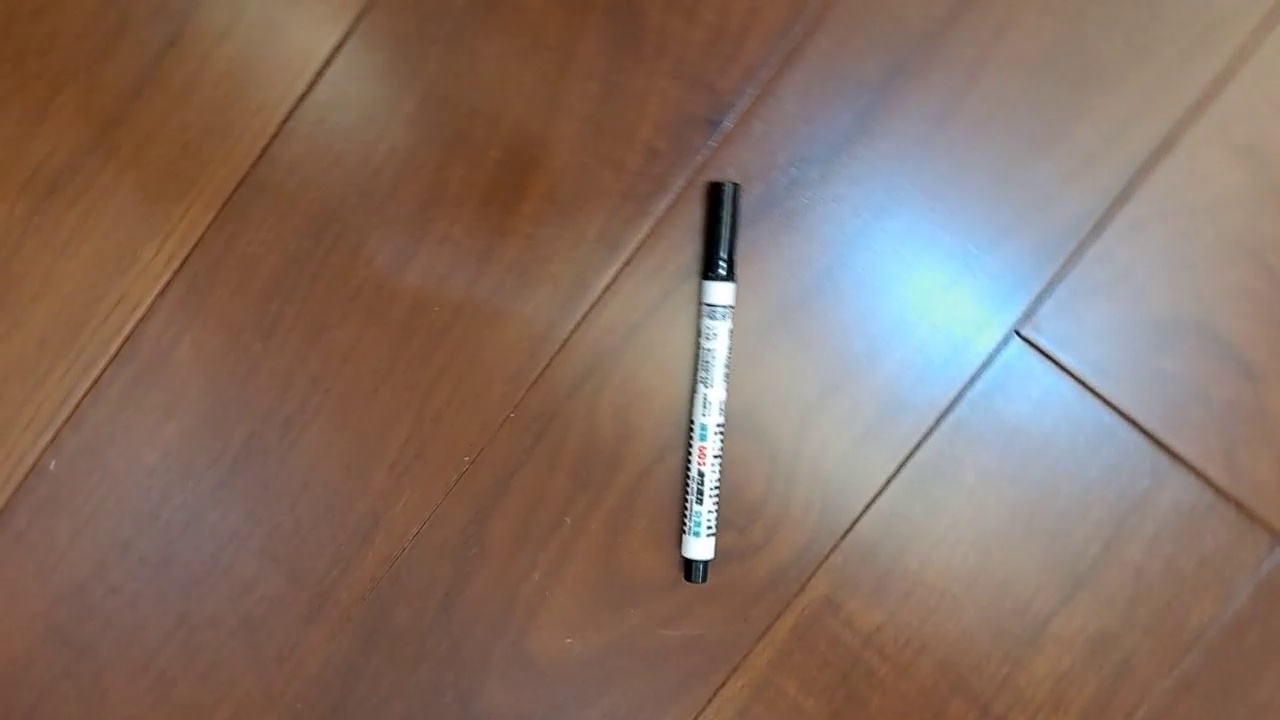pen: (678, 179, 743, 584)
